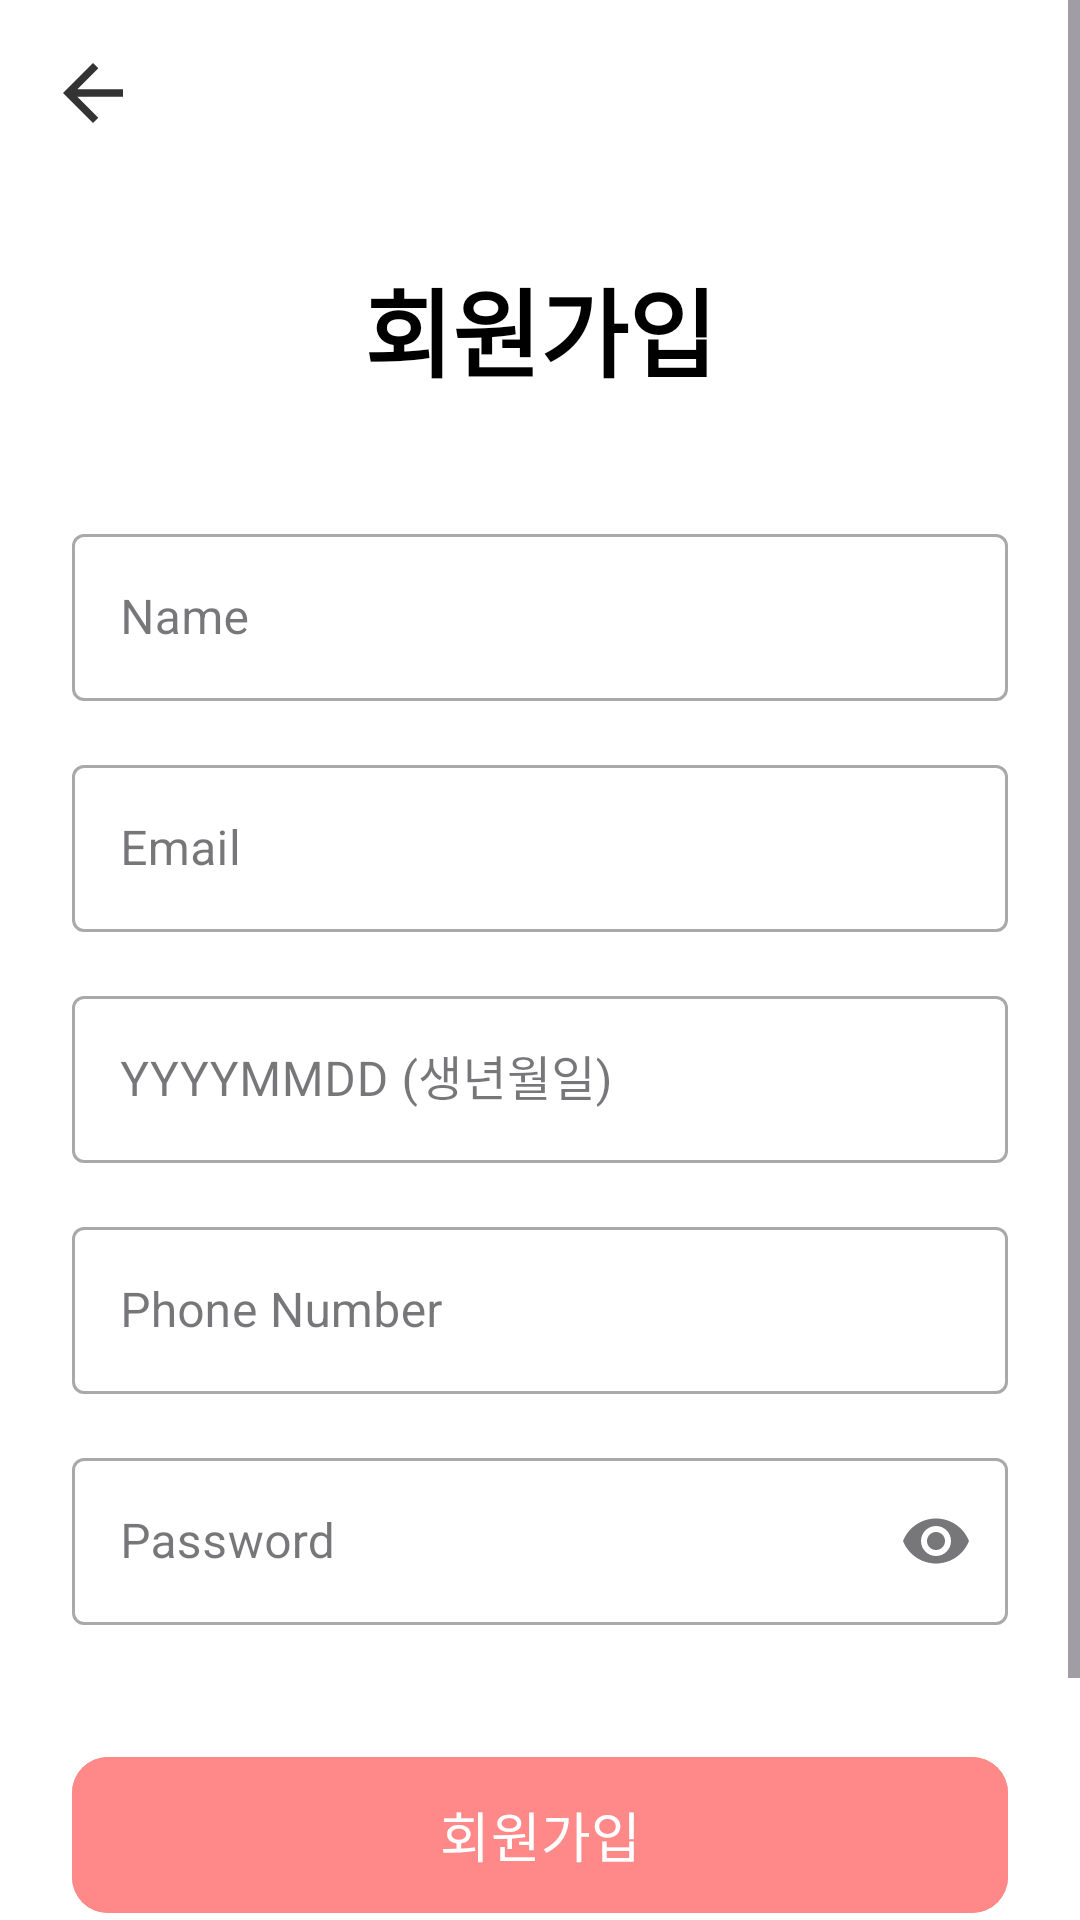

Icon bounding boxes for this 1080*1920 phone screenshot, format [x1, y1, x2, y2]:
back arrow: [63, 63, 123, 123]
